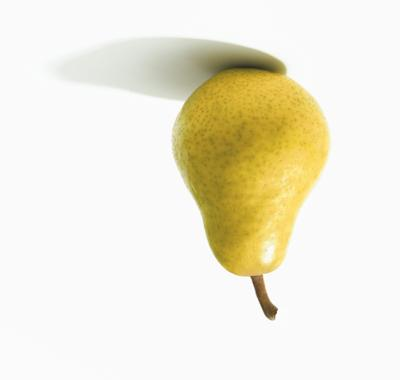pear: (0, 0, 400, 380)
